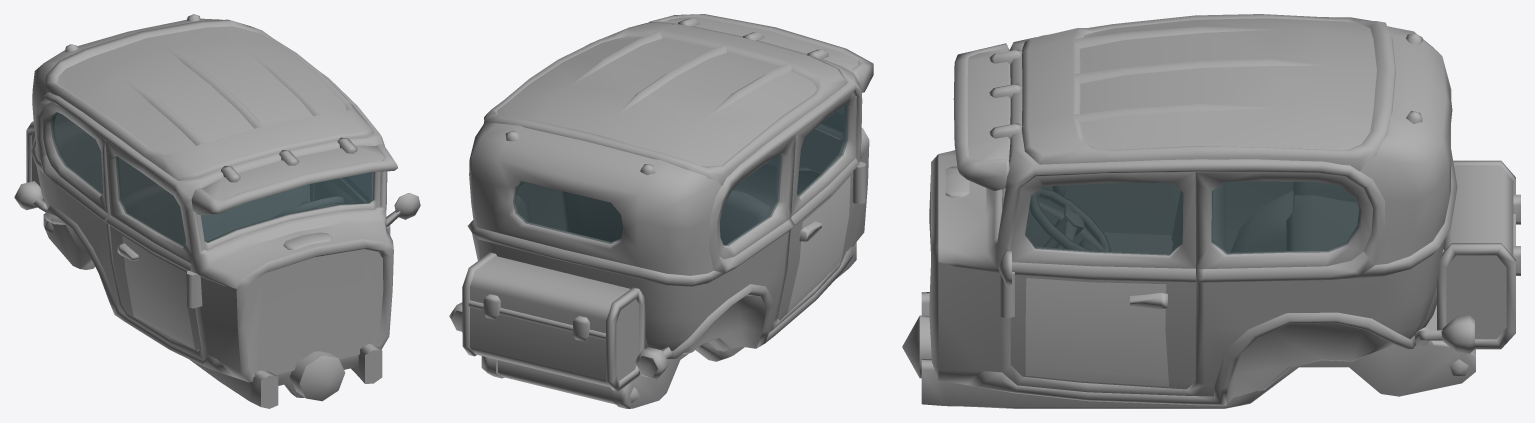
The model's file is Body_Tudorster.fbx.
3 views of the same model, side by side, from view 1: azimuth 30°, elevation 25°; view 2: azimuth 150°, elevation 25°; view 3: azimuth 270°, elevation 25° (orthographic). The views are drawn at different scales.
Visible parts, largest first — view 1: Tudorster_Body_Mesh, Tudorster_Body_Roof_Mesh, Tudorster_Body_Window_Mesh, Tudorster_Body_Cap_Mesh, Tudorster_Door_Right_Mesh, Tudorster_Door_Right_Decal_Mesh, Tudorster_Door_Right_Window_Mesh, Tudorster_Door_Left_Mesh, Tudorster_Body_Box_Rear_Mesh, Tudorster_Door_Left_Window_Mesh, Tudorster_Body_SteerWheel_Mesh; view 2: Tudorster_Body_Mesh, Tudorster_Body_Roof_Mesh, Tudorster_Body_Box_Rear_Mesh, Tudorster_Body_Window_Mesh, Tudorster_Door_Right_Mesh, Tudorster_Body_Cap_Mesh, Tudorster_Door_Right_Decal_Mesh, Tudorster_Door_Right_Window_Mesh; view 3: Tudorster_Body_Mesh, Tudorster_Body_Roof_Mesh, Tudorster_Door_Left_Mesh, Tudorster_Door_Left_Decal_Mesh, Tudorster_Body_Box_Rear_Mesh, Tudorster_Door_Left_Window_Mesh, Tudorster_Body_Window_Mesh, Tudorster_Body_Cap_Mesh, Tudorster_Door_Right_Mesh, Tudorster_Body_SteerWheel_Mesh.
Part boxes in pixels (bbox=[...]): Tudorster_Body_Mesh: bbox=[14, 14, 393, 408]; Tudorster_Body_Roof_Mesh: bbox=[45, 19, 374, 180]; Tudorster_Body_Window_Mesh: bbox=[50, 112, 373, 242]; Tudorster_Body_Cap_Mesh: bbox=[191, 137, 397, 214]; Tudorster_Door_Right_Mesh: bbox=[105, 140, 201, 351]; Tudorster_Door_Right_Decal_Mesh: bbox=[122, 235, 194, 349]; Tudorster_Door_Right_Window_Mesh: bbox=[115, 156, 185, 246]; Tudorster_Door_Left_Mesh: bbox=[313, 178, 420, 226]; Tudorster_Body_Box_Rear_Mesh: bbox=[26, 121, 44, 201]; Tudorster_Door_Left_Window_Mesh: bbox=[343, 173, 370, 200]; Tudorster_Body_SteerWheel_Mesh: bbox=[273, 196, 344, 217]; Tudorster_Body_Mesh: bbox=[449, 21, 869, 408]; Tudorster_Body_Roof_Mesh: bbox=[484, 23, 847, 185]; Tudorster_Body_Box_Rear_Mesh: bbox=[462, 252, 645, 391]; Tudorster_Body_Window_Mesh: bbox=[513, 107, 843, 245]; Tudorster_Door_Right_Mesh: bbox=[777, 92, 859, 320]; Tudorster_Body_Cap_Mesh: bbox=[649, 14, 873, 92]; Tudorster_Door_Right_Decal_Mesh: bbox=[787, 176, 850, 312]; Tudorster_Door_Right_Window_Mesh: bbox=[797, 104, 848, 196]; Tudorster_Body_Mesh: bbox=[902, 26, 1475, 408]; Tudorster_Body_Roof_Mesh: bbox=[1022, 14, 1395, 171]; Tudorster_Door_Left_Mesh: bbox=[998, 172, 1196, 389]; Tudorster_Door_Left_Decal_Mesh: bbox=[1025, 278, 1168, 386]; Tudorster_Body_Box_Rear_Mesh: bbox=[1437, 160, 1520, 349]; Tudorster_Door_Left_Window_Mesh: bbox=[1025, 182, 1183, 255]; Tudorster_Body_Window_Mesh: bbox=[1211, 181, 1360, 254]; Tudorster_Body_Cap_Mesh: bbox=[953, 43, 1022, 190]; Tudorster_Door_Right_Mesh: bbox=[1025, 183, 1180, 248]; Tudorster_Body_SteerWheel_Mesh: bbox=[1029, 188, 1110, 251].
Bounding box in the file's own units: 182 × 175 × 304.
